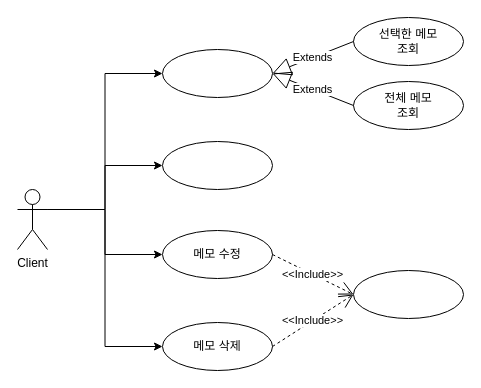
Some shapes in this 481 by 388 pixel diagram are drawn without their labels. The shapes that lost their labels are listed below. From the top down, each one's centre as x and y in pixels, then its label:
At point (217, 73): "메모 조회".
At point (217, 165): "메모 작성".
At point (408, 294): "패스워드 인증".
